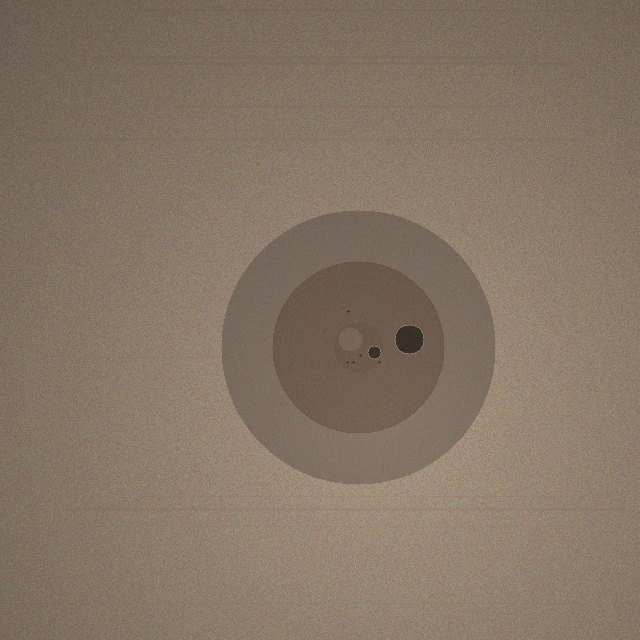shrinkage: (221, 210, 495, 484)
